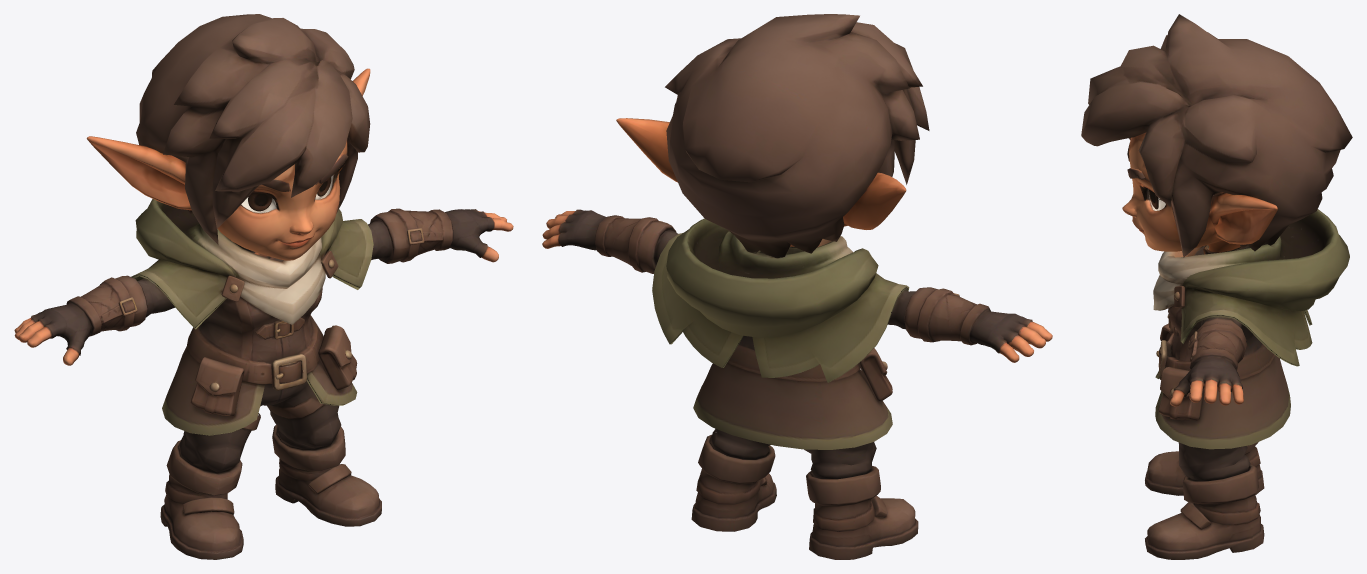
File: elf-rogue-v1.glb
3 renders of one model, left to right at view 1: azimuth 30°, elevation 25°; view 2: azimuth 150°, elevation 25°; view 3: azimuth 270°, elevation 25°, orthographic. The views are drawn at different scales.
Visible parts, largest first — view 1: tripo_08a26d30_335a_4742_b6a1_8b78c729f776; view 2: tripo_08a26d30_335a_4742_b6a1_8b78c729f776; view 3: tripo_08a26d30_335a_4742_b6a1_8b78c729f776.
Boxes of the visible parts, x1=… form: tripo_08a26d30_335a_4742_b6a1_8b78c729f776: x1=14, y1=14, x2=513, y2=559; tripo_08a26d30_335a_4742_b6a1_8b78c729f776: x1=542, y1=14, x2=1052, y2=559; tripo_08a26d30_335a_4742_b6a1_8b78c729f776: x1=1081, y1=14, x2=1352, y2=559.
Size of the model in its own units: 0.9995 by 0.979 by 0.5024.
Materials: 1 (1 with a texture image).
